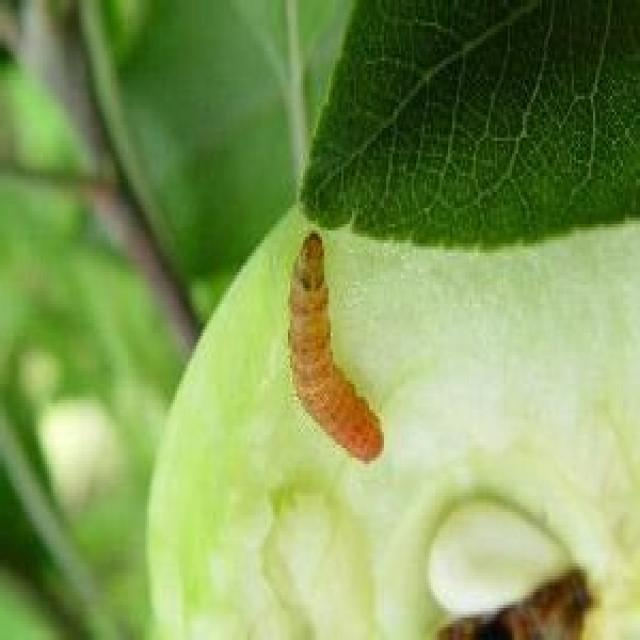peach borer: (284, 224, 393, 464)
